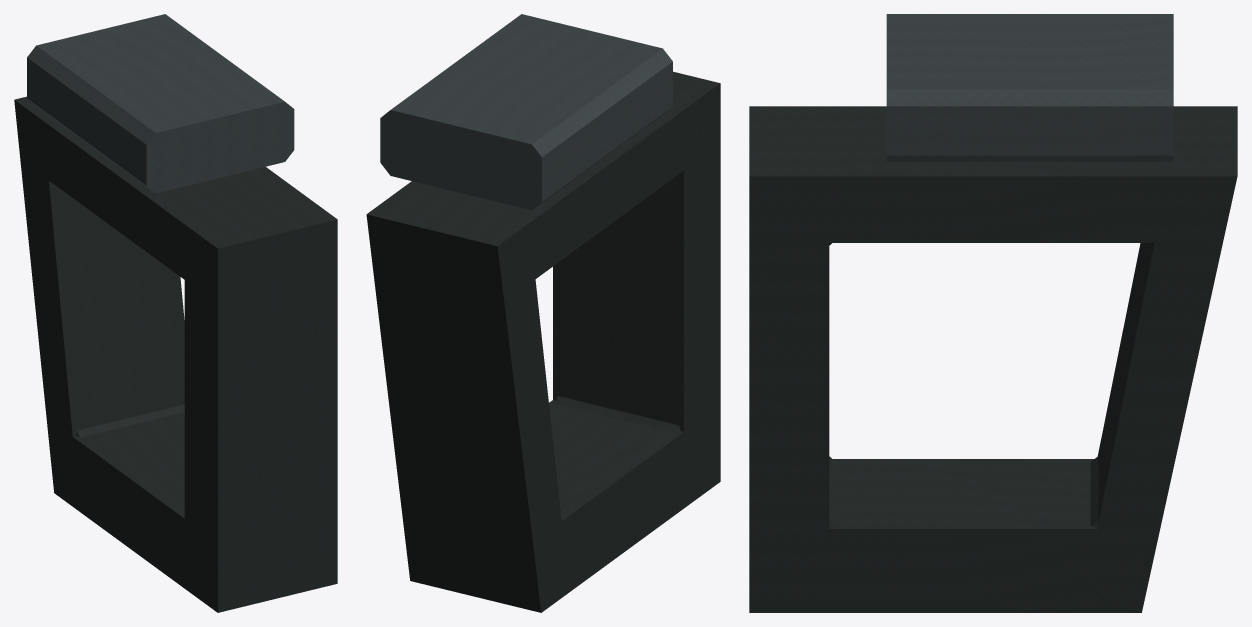
File: fore_bail.glb
3 views of the same model, side by side, from view 1: azimuth 30°, elevation 25°; view 2: azimuth 150°, elevation 25°; view 3: azimuth 270°, elevation 25° (orthographic). The views are drawn at different scales.
Visible parts, largest first — view 1: fore_bail_open_angled_bail, fore_bail_open_angled_bail.001, fore_bail_rail_clamp; view 2: fore_bail_open_angled_bail, fore_bail_open_angled_bail.001, fore_bail_rail_clamp; view 3: fore_bail_open_angled_bail.001, fore_bail_open_angled_bail, fore_bail_rail_clamp.
Boxes of the visible parts, x1=… form: fore_bail_open_angled_bail: x1=17, y1=99, x2=332, y2=606; fore_bail_open_angled_bail.001: x1=14, y1=96, x2=337, y2=612; fore_bail_rail_clamp: x1=27, y1=14, x2=294, y2=193; fore_bail_open_angled_bail: x1=372, y1=75, x2=717, y2=604; fore_bail_open_angled_bail.001: x1=366, y1=71, x2=720, y2=612; fore_bail_rail_clamp: x1=380, y1=14, x2=672, y2=210; fore_bail_open_angled_bail.001: x1=749, y1=106, x2=1237, y2=612; fore_bail_open_angled_bail: x1=755, y1=109, x2=1230, y2=606; fore_bail_rail_clamp: x1=886, y1=14, x2=1173, y2=161.
Bounding box in the file's own units: 0.064 × 0.182 × 0.153.
2 materials, 2 textured.
